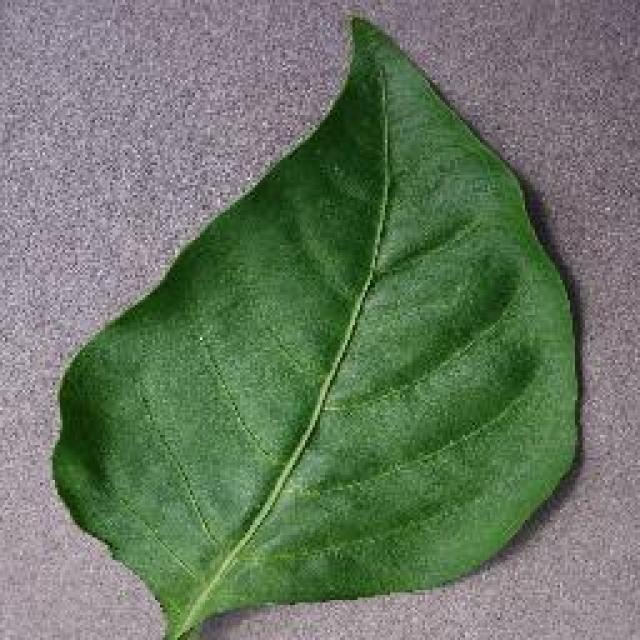Leaf: (54, 20, 610, 634)
